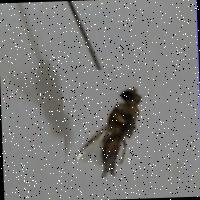Oriental-fruit-fly: (61, 68, 155, 178)
